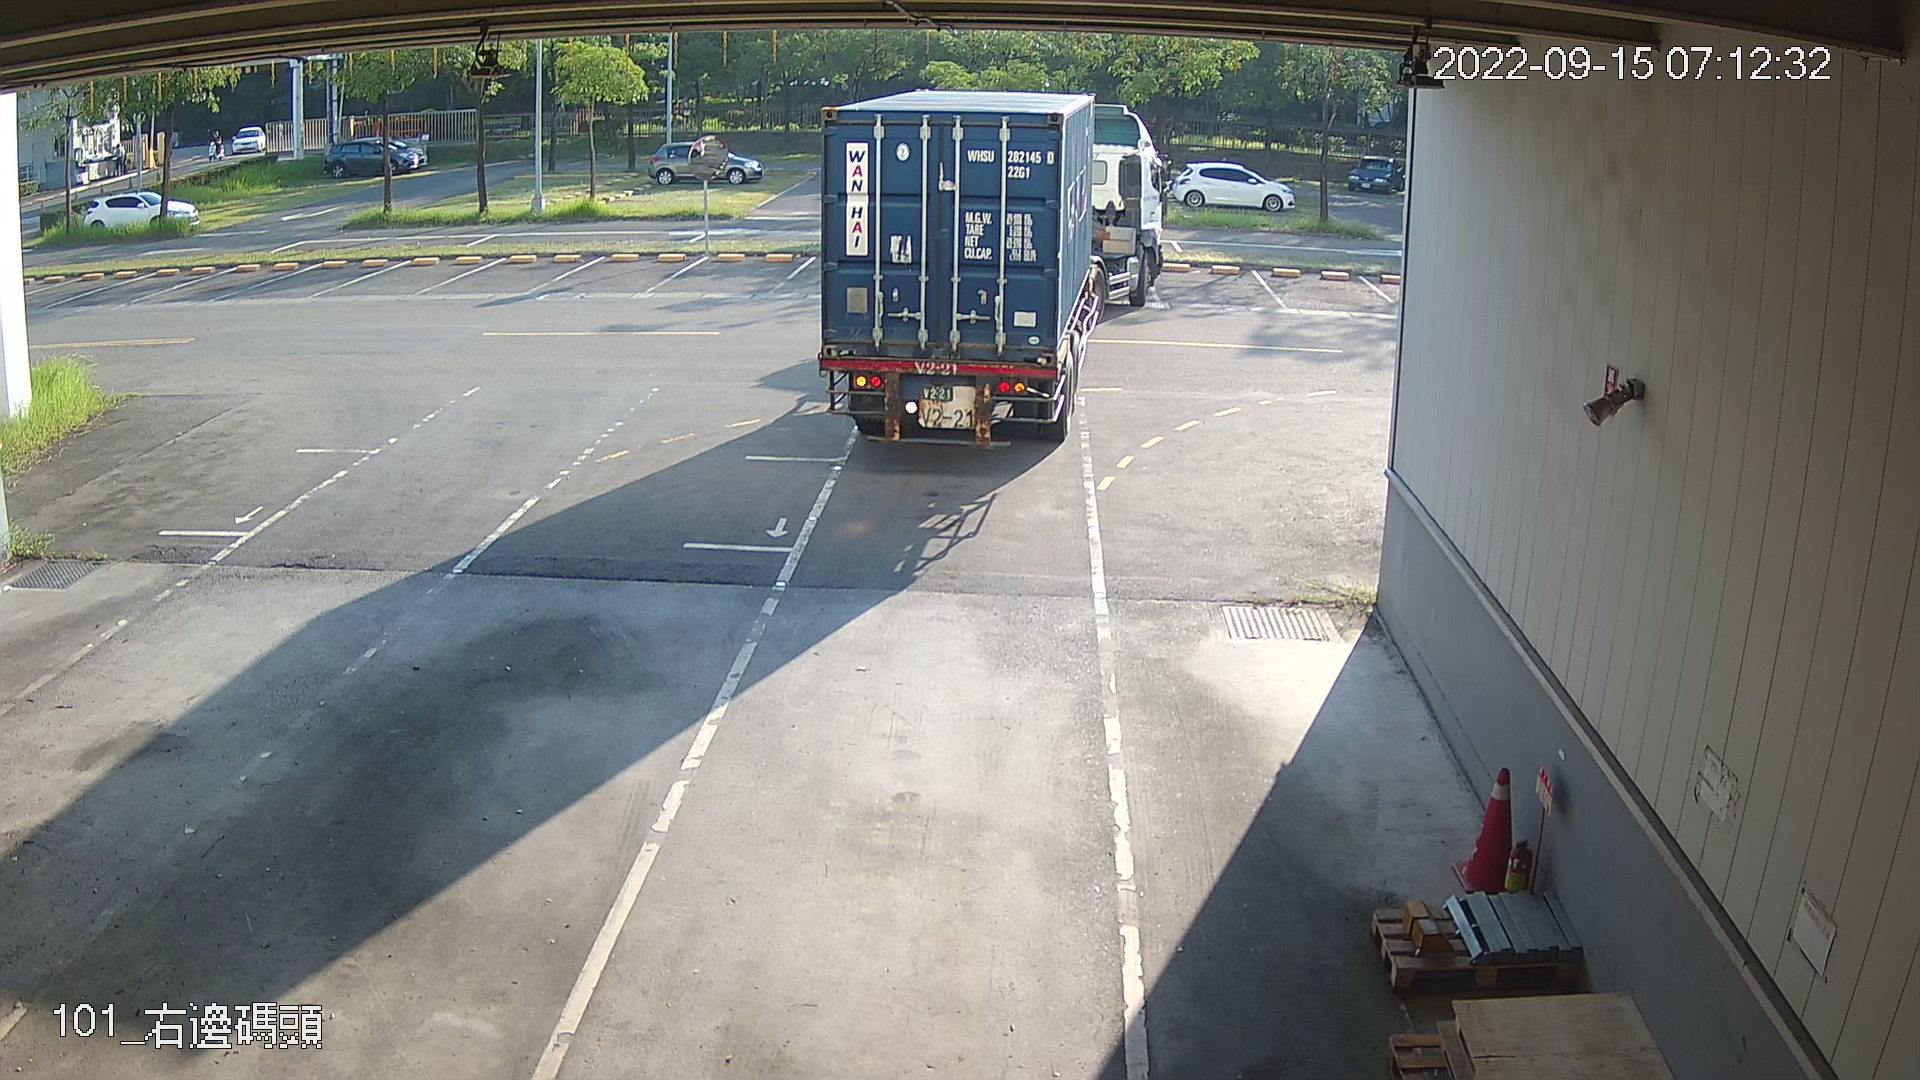container: (963, 138, 1058, 185)
